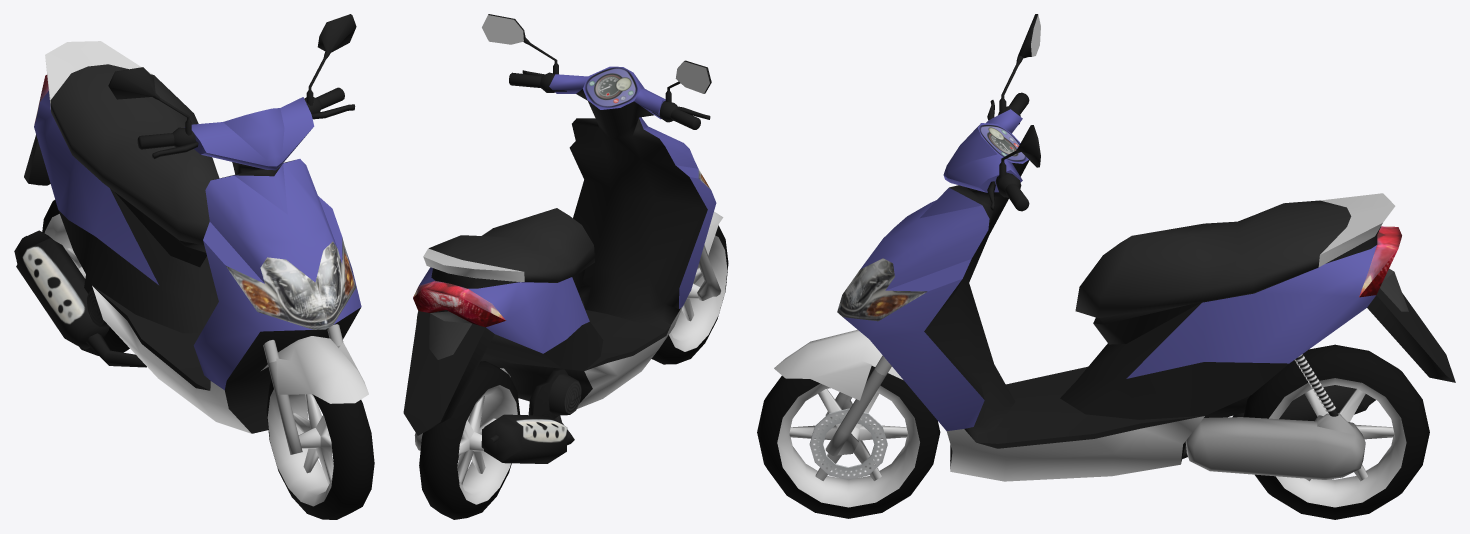
Rendered from sweethome3d-scopia-scooter-247.glb.
3 views of the same model, side by side, from view 1: azimuth 30°, elevation 25°; view 2: azimuth 150°, elevation 25°; view 3: azimuth 270°, elevation 25° (orthographic). The views are drawn at different scales.
Parts seen in each view (by area): view 1: scooter_Plane, textured_Plane.002, engine_Plane.001; view 2: scooter_Plane, textured_Plane.002, engine_Plane.001, sweethome3d_window_mirror_Plane.009; view 3: scooter_Plane, engine_Plane.001, textured_Plane.002.
Part boxes in pixels (box(x1,y1,x2,y2)): scooter_Plane: box(24, 14, 374, 519); textured_Plane.002: box(22, 75, 356, 329); engine_Plane.001: box(14, 230, 146, 367); scooter_Plane: box(403, 14, 728, 519); textured_Plane.002: box(413, 67, 710, 442); engine_Plane.001: box(414, 368, 581, 463); sweethome3d_window_mirror_Plane.009: box(482, 15, 709, 93); scooter_Plane: box(757, 14, 1455, 519); engine_Plane.001: box(1182, 355, 1375, 479); textured_Plane.002: box(809, 125, 1401, 480).
Bounding box in the file's own units: 76.36 × 121 × 173.
Materials: 12 (1 with a texture image).
